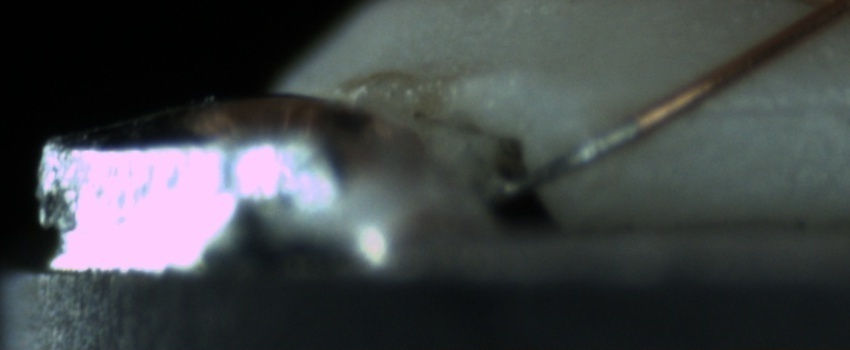DL: (684, 77, 847, 142)
TS: (496, 120, 641, 195)
TTCW: (490, 91, 674, 201)
